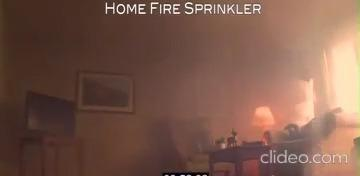fire: (262, 136, 267, 145)
